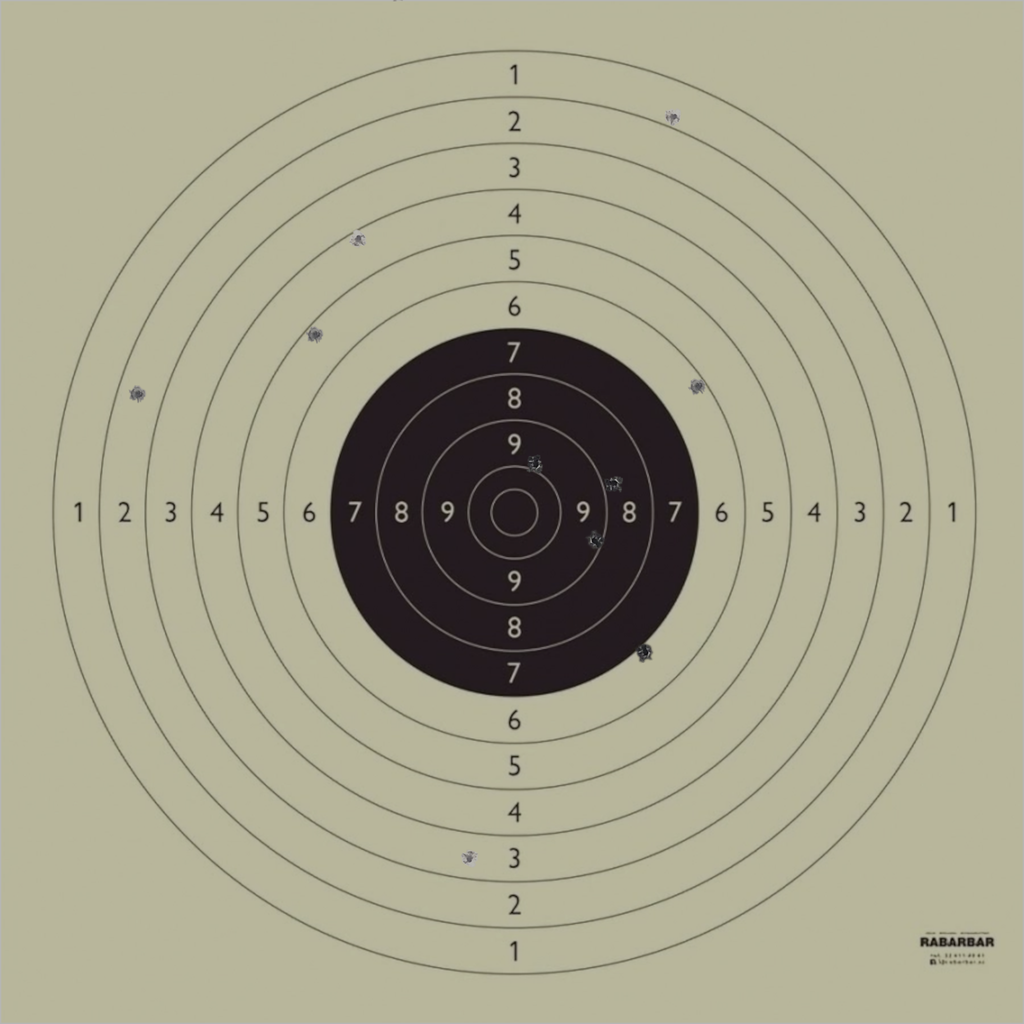0 punktow: (295, 27, 314, 45)
1 punkt: (664, 108, 683, 126)
10 punktow: (526, 455, 545, 473)
2 punkty: (129, 385, 147, 403)
3 punkty: (460, 849, 479, 868)
4 punkty: (349, 230, 368, 248)
5 punktow: (306, 326, 325, 344)
6 punktow: (689, 377, 707, 396)
7 punktow: (636, 643, 655, 662)
8 punktow: (604, 474, 623, 493)
9 punktow: (585, 531, 604, 550)
